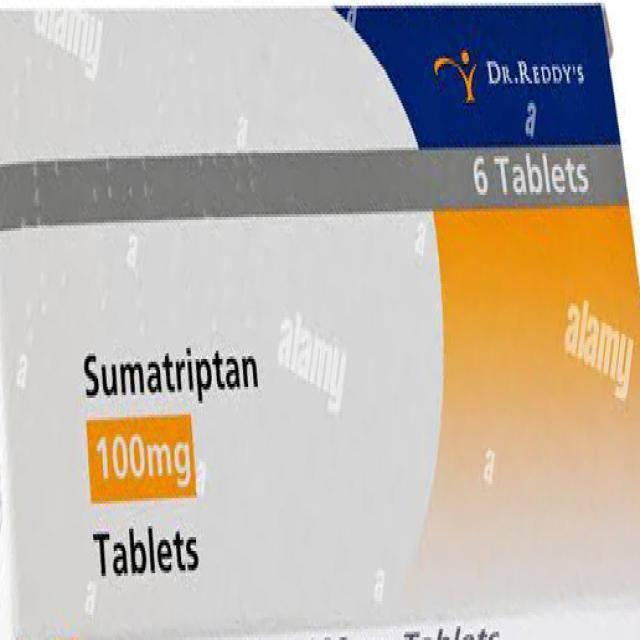drug-name: (80, 328, 267, 408)
